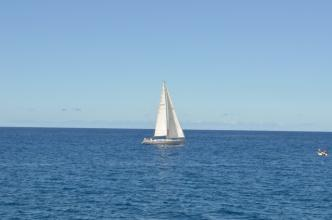fanchuan: (140, 81, 186, 145)
